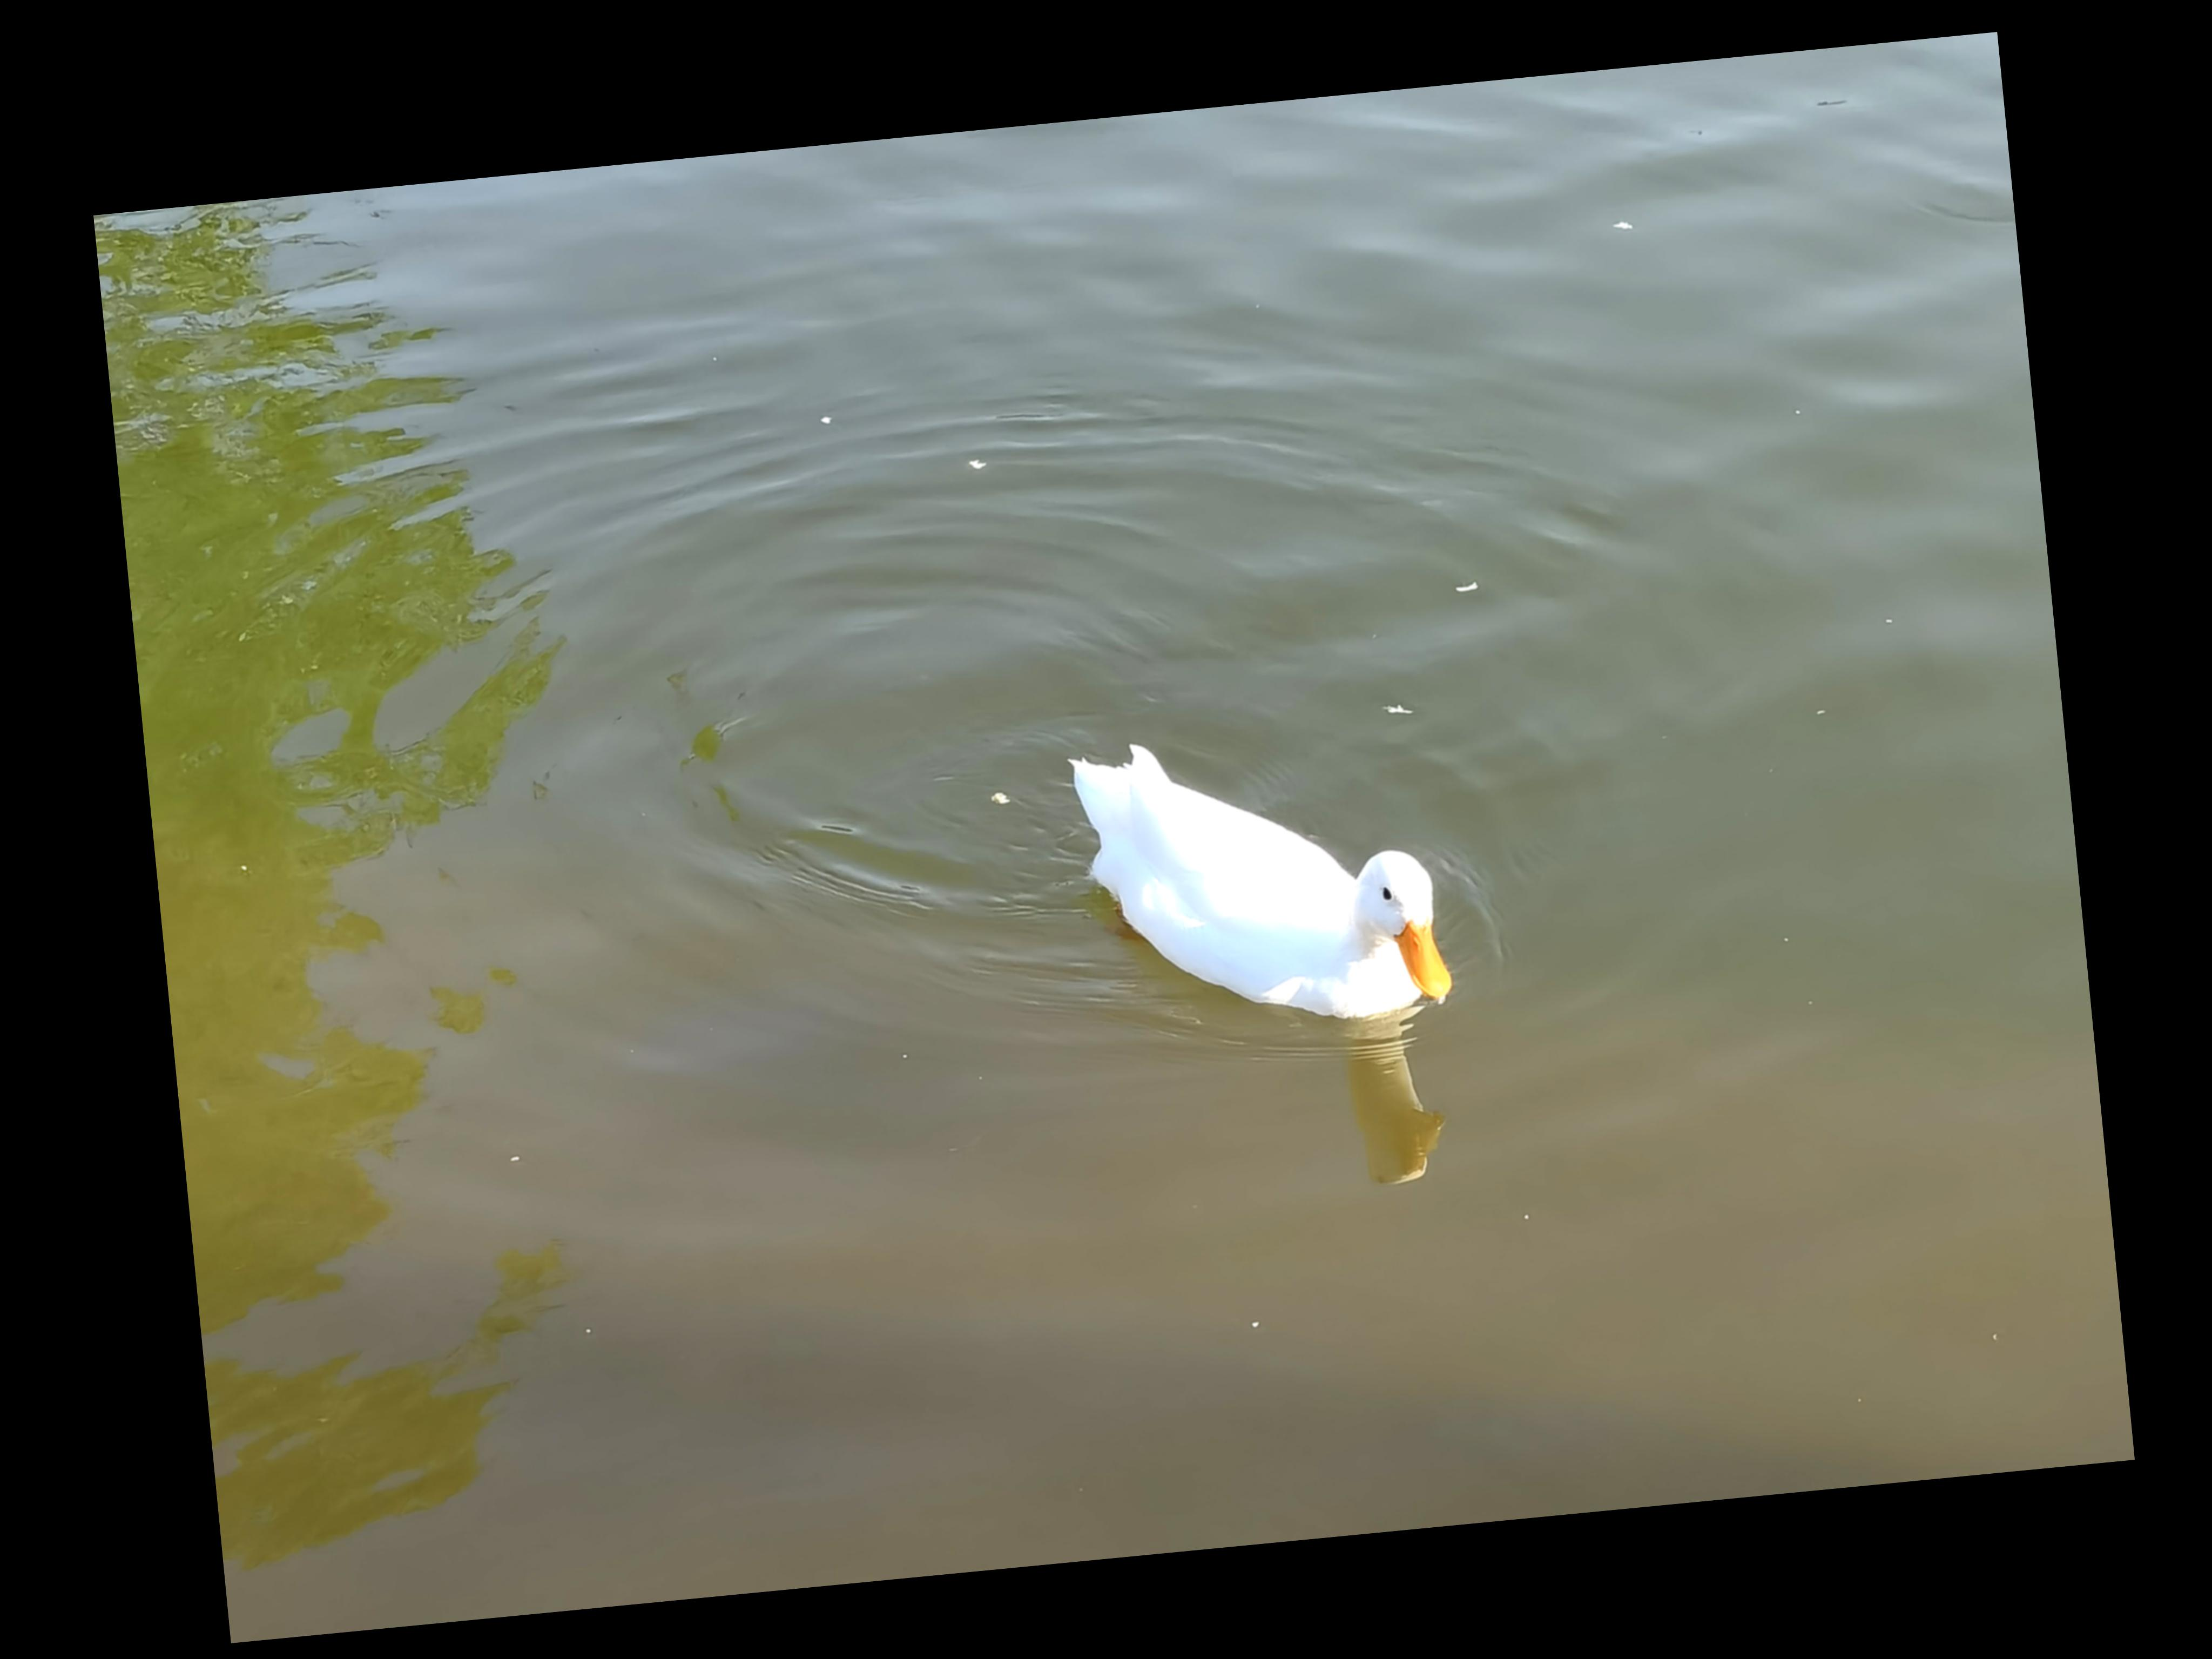duck: (1040, 695, 1493, 1087)
